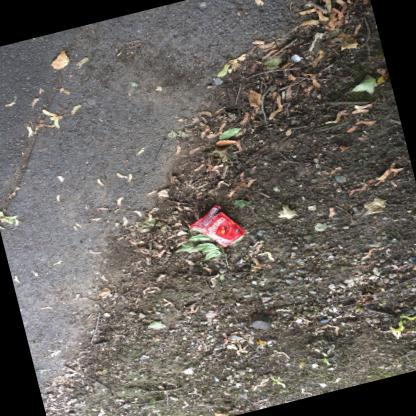Paper: (252, 265, 260, 267)
Plastic: (188, 204, 245, 246)
